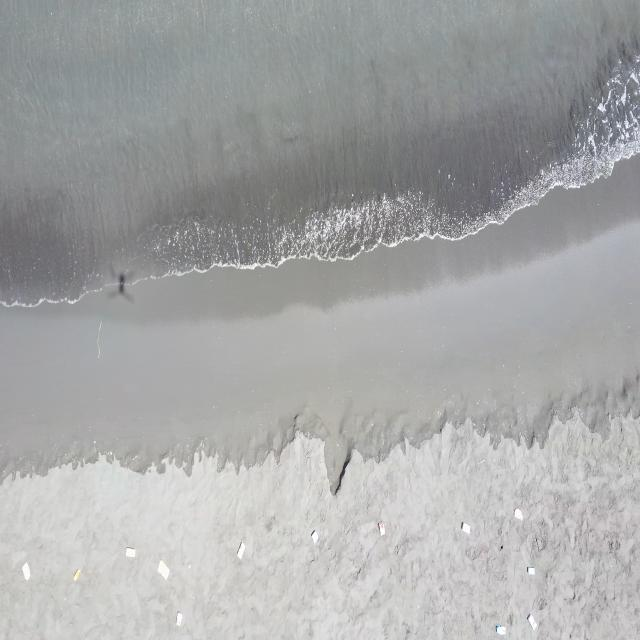retort-pouch: (156, 558, 172, 582), (526, 612, 538, 632), (21, 560, 31, 583), (236, 539, 246, 560), (173, 610, 185, 627), (512, 506, 524, 523), (376, 519, 386, 538), (310, 528, 320, 545), (495, 624, 507, 636), (125, 546, 136, 558), (460, 522, 470, 534), (526, 564, 535, 576), (73, 569, 81, 581)
